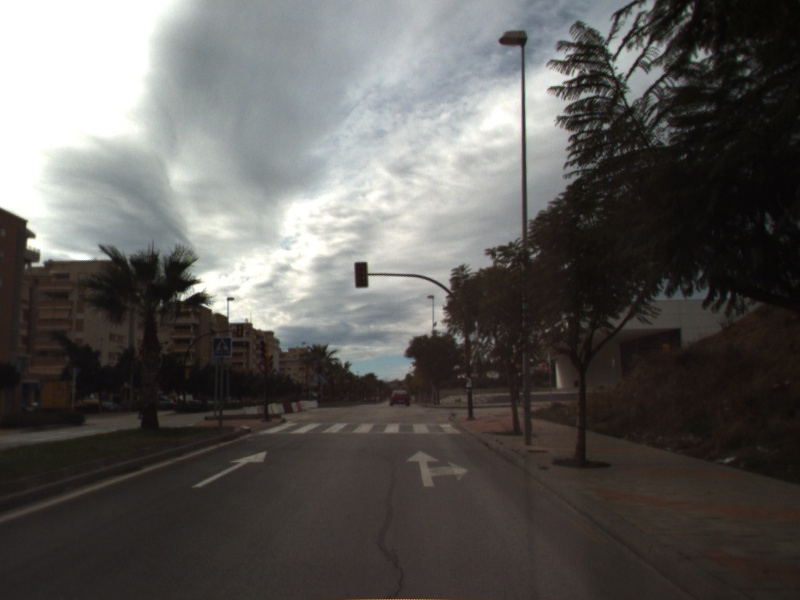STRAIGHT: (190, 449, 269, 489)
STRAIGHT_RIGHT: (404, 448, 470, 488)
